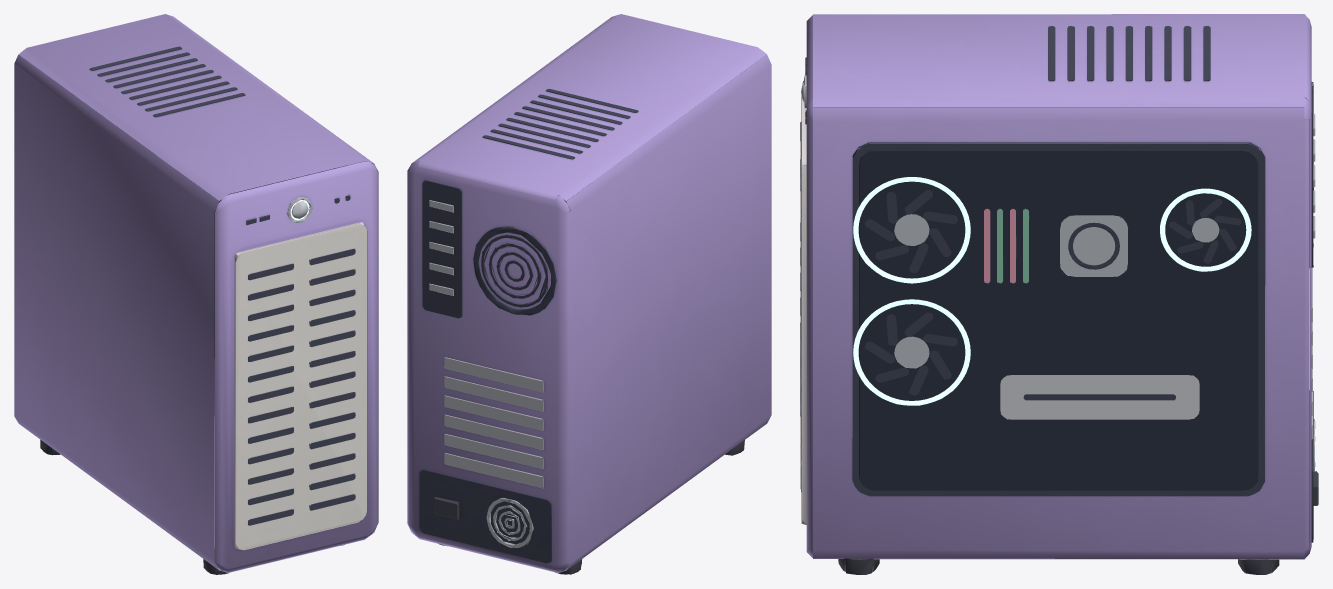
File: desktop-pc-leve.glb
3 renders of one model, left to right at view 1: azimuth 30°, elevation 25°; view 2: azimuth 150°, elevation 25°; view 3: azimuth 270°, elevation 25°, orthographic. The views are drawn at different scales.
Parts seen in each view (by area): view 1: desktop-pc_body; view 2: desktop-pc_body; view 3: desktop-pc_body, desktop-pc_window_glass, desktop-pc_glow_rings.
Boxes of the visible parts, x1=… form: desktop-pc_body: x1=14, y1=14, x2=378, y2=574; desktop-pc_body: x1=407, y1=14, x2=771, y2=574; desktop-pc_body: x1=800, y1=14, x2=1318, y2=574; desktop-pc_window_glass: x1=859, y1=150, x2=1258, y2=490; desktop-pc_glow_rings: x1=806, y1=85, x2=1251, y2=405.
Size of the model in its own units: 0.2015 by 0.4509 by 0.4409.
Materials: 8 (1 with a texture image).
